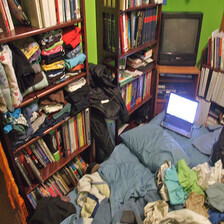laptop: (147, 85, 204, 144)
